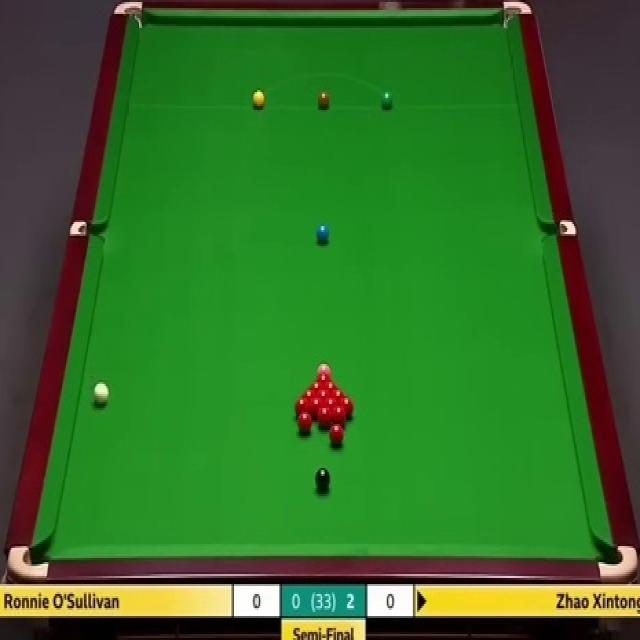pocket: (595, 537, 636, 581), (9, 544, 51, 582), (501, 0, 534, 28), (114, 0, 145, 29), (543, 220, 576, 240), (68, 218, 100, 236)
